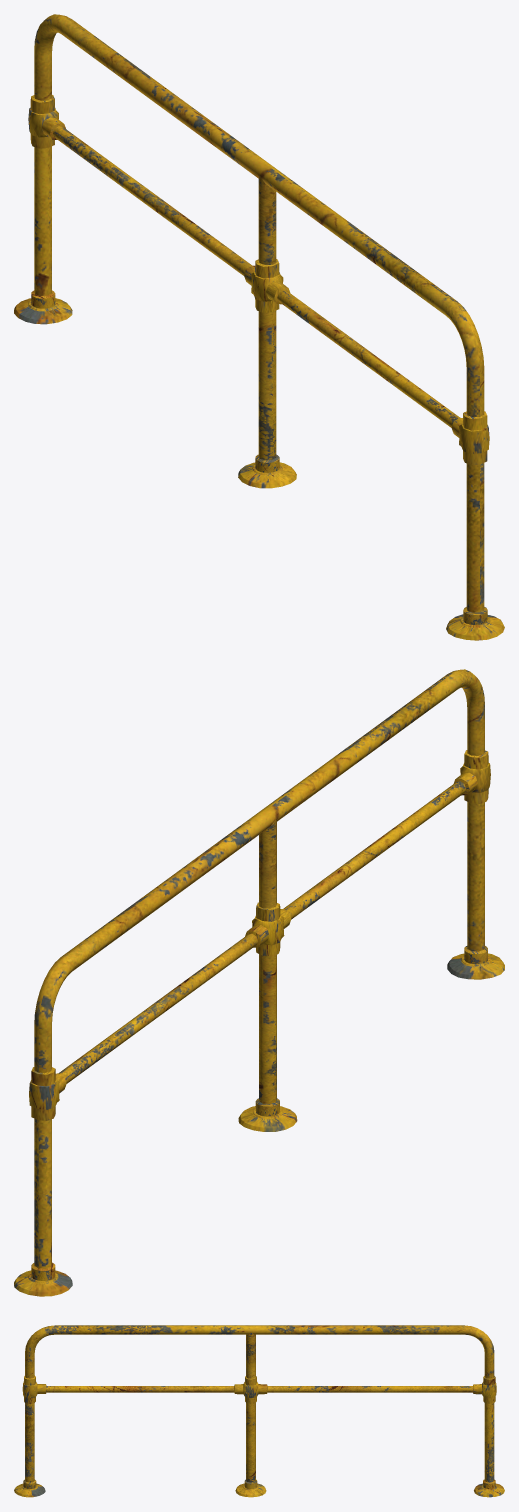
The model's file is SideRail.fbx.
3 renders of one model, top to bottom at view 1: azimuth 30°, elevation 25°; view 2: azimuth 150°, elevation 25°; view 3: azimuth 270°, elevation 25°, orthographic. The views are drawn at different scales.
Parts seen in each view (by area): view 1: RailingSide; view 2: RailingSide; view 3: RailingSide.
Boxes of the visible parts, bbox=[...] form: RailingSide: bbox=[14, 14, 504, 640]; RailingSide: bbox=[14, 669, 504, 1296]; RailingSide: bbox=[14, 1325, 504, 1497].
Bounding box in the file's own units: 16.6 × 96.5 × 256.
Materials: 1 (1 with a texture image).
